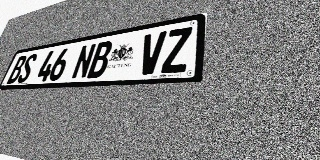4: (35, 50, 59, 82)
6: (47, 47, 72, 81)
B: (87, 40, 114, 78), (6, 55, 28, 84)
N: (71, 43, 97, 80)
S: (16, 53, 38, 83)
V: (137, 31, 167, 75)
Z: (161, 26, 192, 74)
